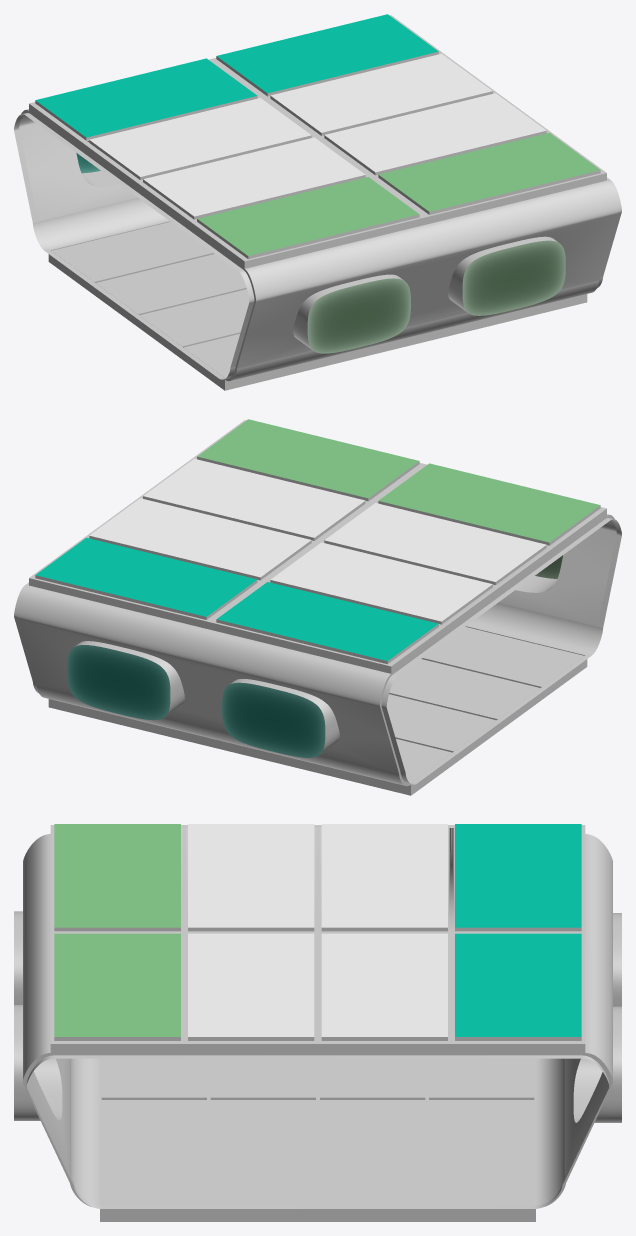
Rendered from whiteroom.dae.
3 renders of one model, top to bottom at view 1: azimuth 30°, elevation 25°; view 2: azimuth 150°, elevation 25°; view 3: azimuth 270°, elevation 25°, orthographic. The views are drawn at different scales.
Visible parts, largest first — view 1: BAKE, Cube_002, emissionwindows; view 2: BAKE, Cube_002, emissionwindows; view 3: BAKE, Cube_002.
Boxes of the visible parts, x1,y1,x2,y2 form: BAKE: [14, 15, 621, 390]; Cube_002: [35, 14, 600, 255]; emissionwindows: [76, 153, 565, 353]; BAKE: [14, 420, 621, 795]; Cube_002: [35, 419, 600, 660]; emissionwindows: [67, 555, 562, 757]; BAKE: [14, 825, 621, 1221]; Cube_002: [54, 824, 581, 1036].
Bounding box in the file's own units: 10.33 × 11.79 × 3.89.
Materials: 6 (2 with a texture image).
